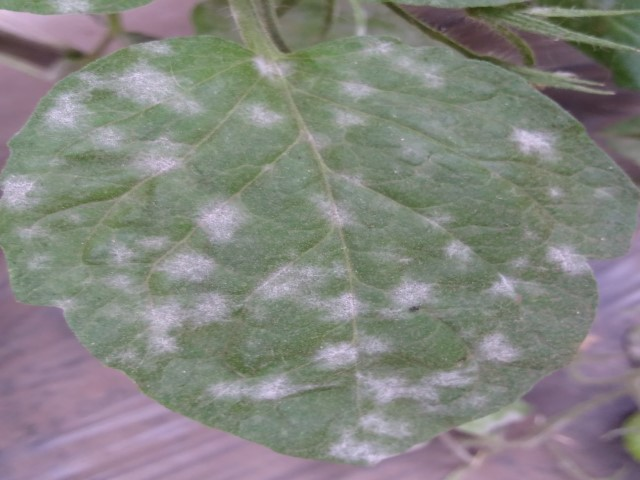oidio: (251, 254, 350, 315), (360, 370, 492, 411), (106, 64, 200, 118), (320, 412, 413, 462), (203, 366, 308, 404), (126, 299, 189, 357), (300, 184, 363, 234), (316, 328, 389, 369), (199, 193, 248, 249), (133, 137, 191, 183), (471, 323, 520, 367), (386, 273, 437, 311), (5, 171, 46, 216), (480, 270, 525, 311), (541, 243, 591, 279), (162, 244, 208, 283), (183, 292, 238, 324), (504, 131, 557, 162), (233, 98, 285, 129), (81, 123, 126, 156), (443, 232, 475, 271), (254, 55, 296, 81), (103, 230, 134, 263), (338, 84, 380, 102)
